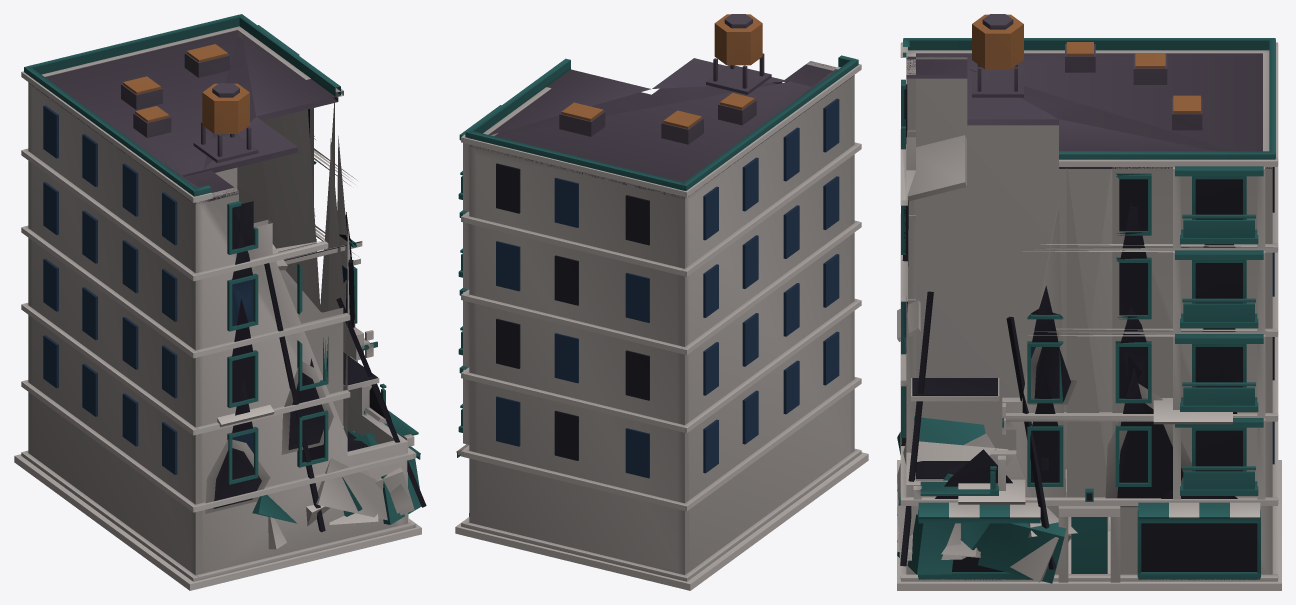
The picture shows the model from 3 angles, left to right: view 1: azimuth 30°, elevation 25°; view 2: azimuth 150°, elevation 25°; view 3: azimuth 270°, elevation 25°; orthographic projection. The views are drawn at different scales.
Parts seen in each view (by area): view 1: body_pal_picketWhite, roof_pal_asphalt, body_pal_backpackTeal, body_pal_blueTrim, body_pal_uiDark, roof_pal_woodWarm; view 2: body_pal_picketWhite, roof_pal_asphalt, body_pal_blueTrim, body_pal_uiDark, body_pal_backpackTeal, roof_pal_woodWarm; view 3: body_pal_picketWhite, body_pal_backpackTeal, body_pal_uiDark, roof_pal_asphalt, roof_pal_woodWarm, door_front_pal_backpackTeal.
Part boxes in pixels (bbox=[...]): body_pal_picketWhite: bbox=[14, 26, 421, 590]; roof_pal_asphalt: bbox=[28, 30, 338, 204]; body_pal_backpackTeal: bbox=[24, 14, 421, 524]; body_pal_blueTrim: bbox=[43, 105, 347, 474]; body_pal_uiDark: bbox=[213, 109, 426, 532]; roof_pal_woodWarm: bbox=[123, 44, 249, 133]; body_pal_picketWhite: bbox=[455, 61, 868, 590]; roof_pal_asphalt: bbox=[470, 14, 854, 197]; body_pal_blueTrim: bbox=[496, 98, 839, 478]; body_pal_uiDark: bbox=[496, 163, 649, 460]; body_pal_backpackTeal: bbox=[457, 55, 858, 516]; roof_pal_woodWarm: bbox=[561, 14, 762, 128]; body_pal_picketWhite: bbox=[897, 42, 1281, 590]; body_pal_backpackTeal: bbox=[897, 38, 1275, 583]; body_pal_uiDark: bbox=[900, 84, 1274, 571]; roof_pal_asphalt: bbox=[906, 14, 1271, 168]; roof_pal_woodWarm: bbox=[972, 14, 1200, 113]; door_front_pal_backpackTeal: bbox=[1071, 517, 1107, 573].
Bounding box in the file's own units: 10 × 17.76 × 12.6.
